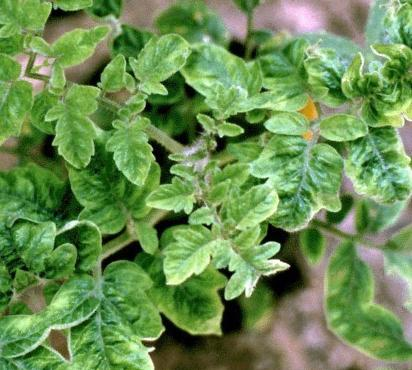Tomato leaf yellow virus: (33, 249, 204, 370), (239, 106, 382, 250), (27, 69, 134, 182), (321, 102, 412, 230), (0, 139, 89, 263), (171, 21, 267, 120), (145, 206, 243, 300), (114, 19, 211, 109), (206, 165, 298, 249)
